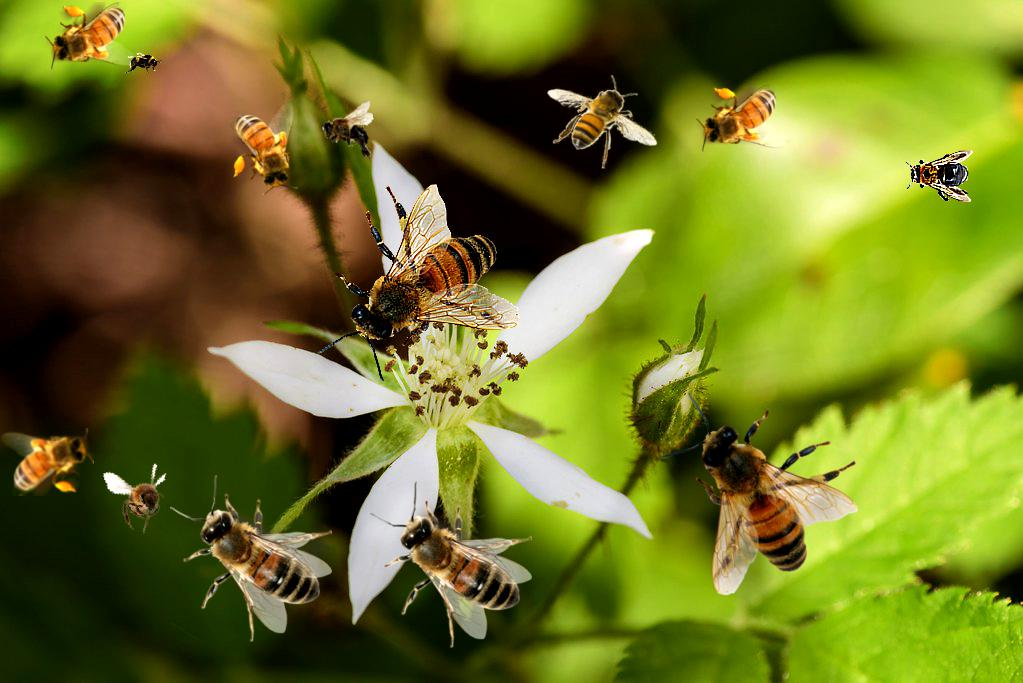Bee: (659, 392, 858, 596), (317, 184, 521, 383), (370, 481, 532, 648), (170, 475, 332, 642), (547, 75, 658, 169), (102, 453, 183, 541), (1, 428, 94, 496), (696, 84, 789, 152), (45, 2, 138, 70), (230, 102, 298, 195), (319, 101, 376, 165), (905, 150, 973, 202), (124, 52, 164, 74)
